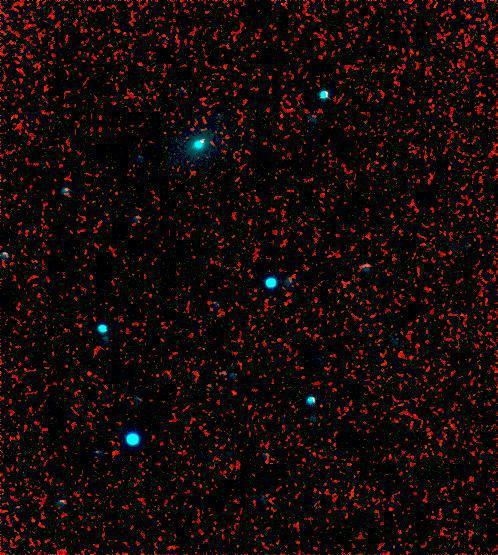star: (222, 376, 252, 406)
